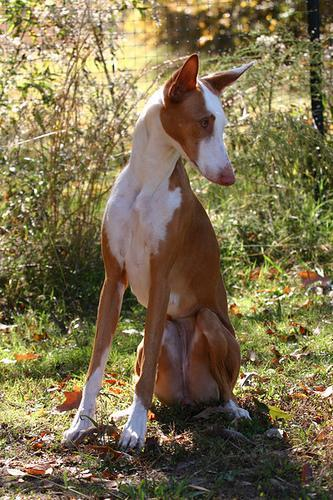Ibizan_hound: (58, 51, 252, 452)
